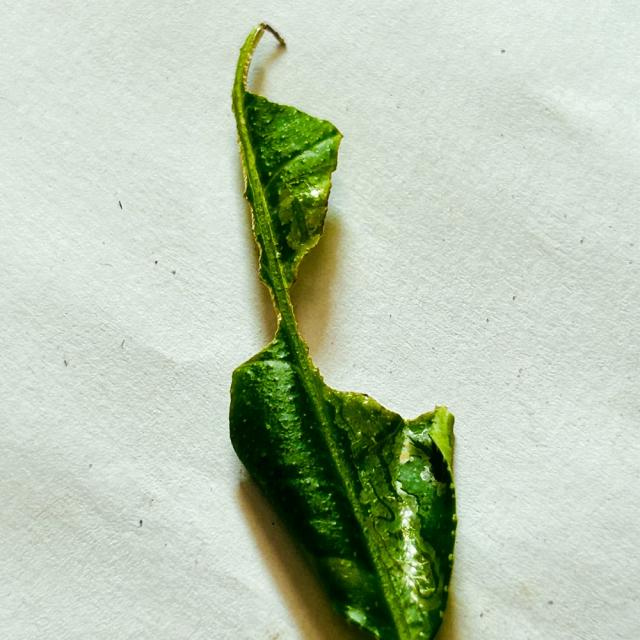Deficiency Leaf: (292, 172, 438, 419), (229, 105, 280, 372)
Lemon: (229, 24, 457, 639)
